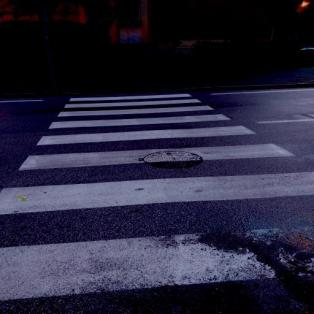Paso de Cebra: (15, 124, 299, 176), (57, 91, 211, 110)
